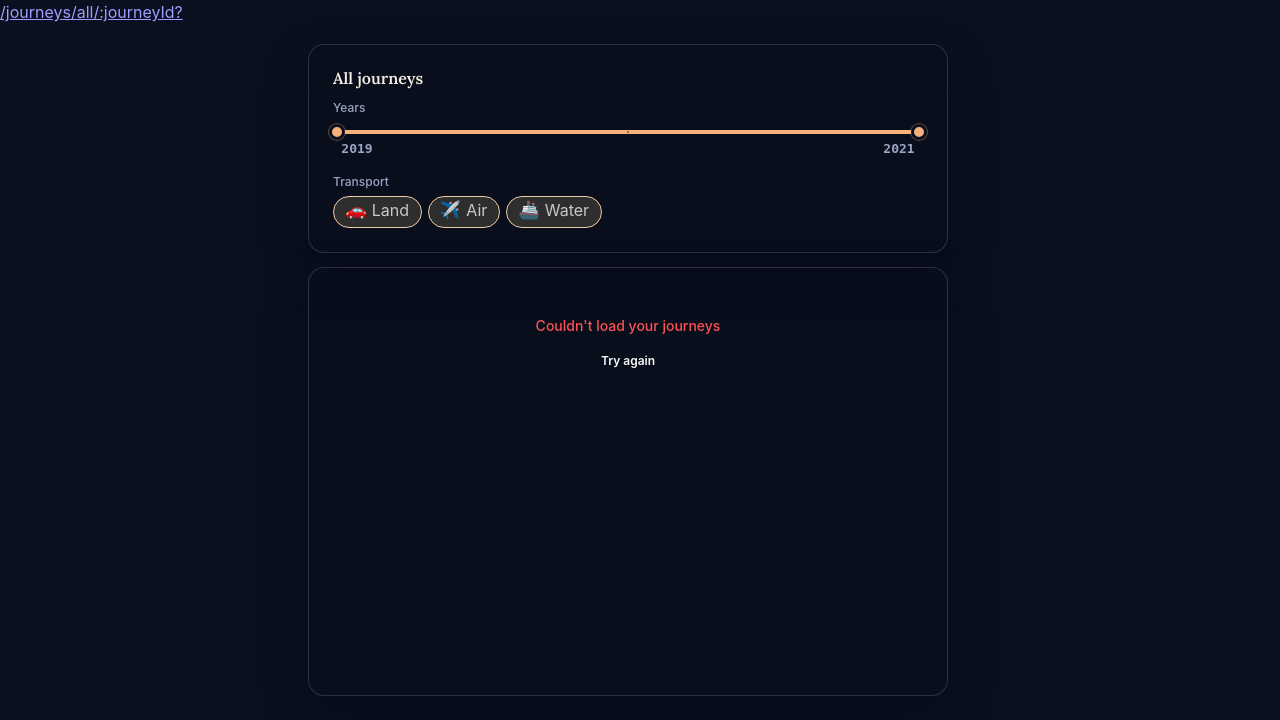
Test: AllJourneysView › ошибка загрузки ленты — сообщение и повтор, который её показывает
The width and height of the screenshot is (1280, 720).
Expected: the text "Couldn't load your journeys" is shown, top-left (536, 316), bottom-right (720, 336)
Click the button "Try again": (628, 362) top-left (586, 346), bottom-right (670, 376)
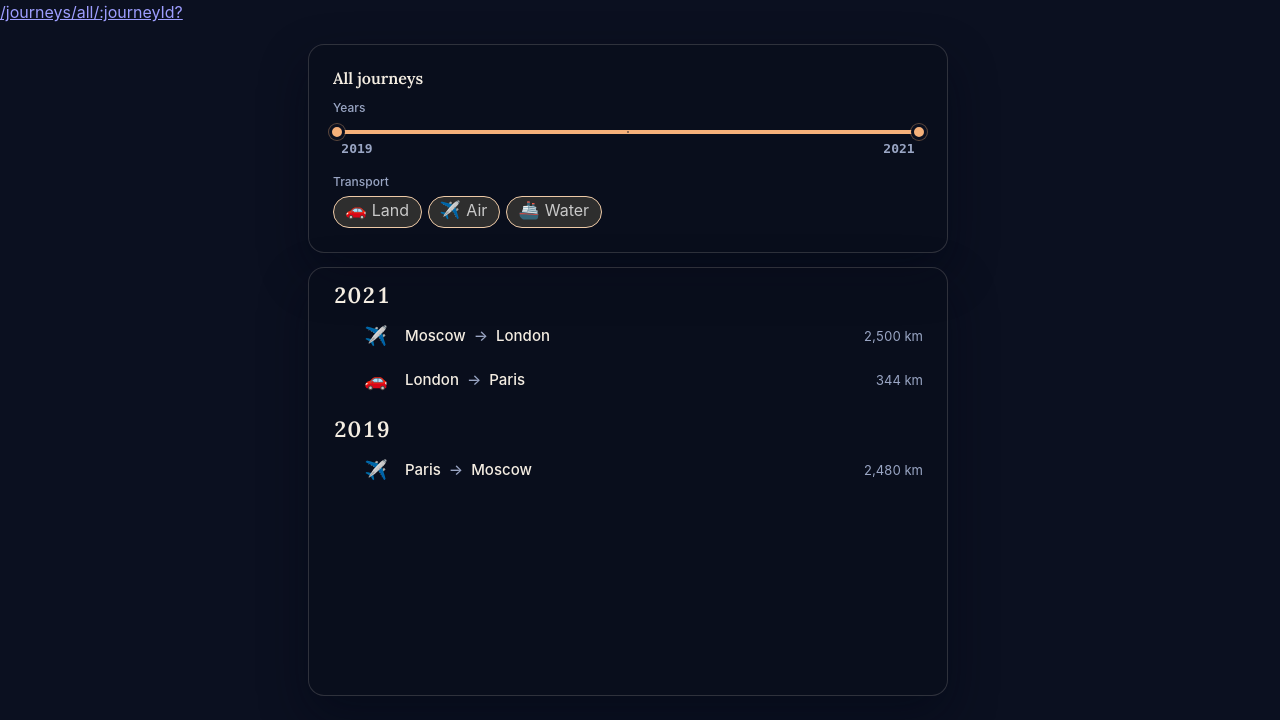
Expected: the element "2021" is shown, top-left (333, 268), bottom-right (923, 402)
